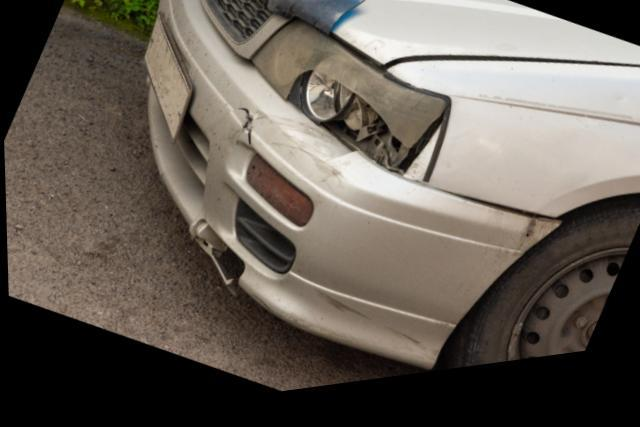crack: (236, 112, 252, 156)
lamp broken: (250, 25, 446, 192)
scratch: (276, 295, 434, 372), (258, 120, 349, 189)
